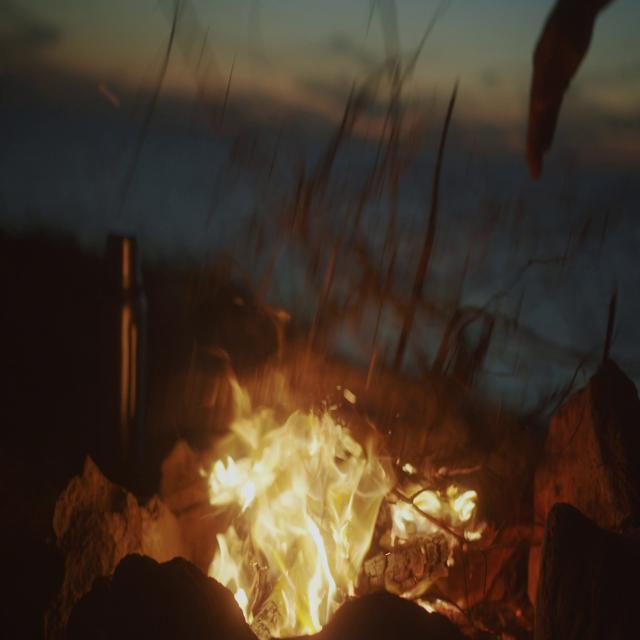Fire: (198, 338, 474, 640)
